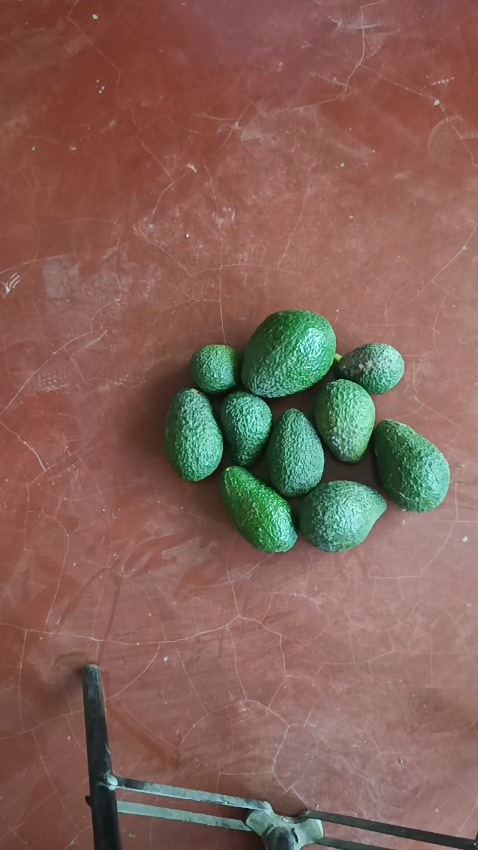Primera: (240, 309, 337, 398)
Segunda: (371, 420, 450, 512), (295, 479, 388, 552), (219, 466, 297, 552), (163, 388, 223, 481), (313, 378, 376, 463), (264, 408, 324, 496)
Tercera: (218, 390, 273, 468), (334, 342, 405, 395), (188, 344, 239, 395)
